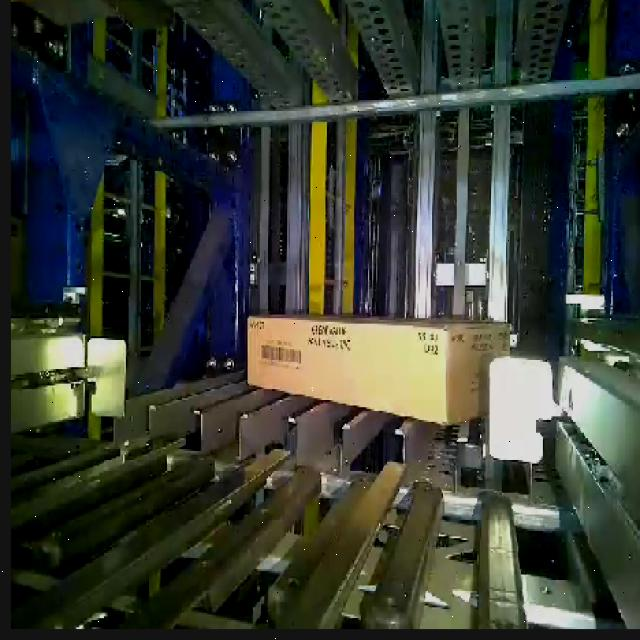box: (233, 289, 466, 425)
